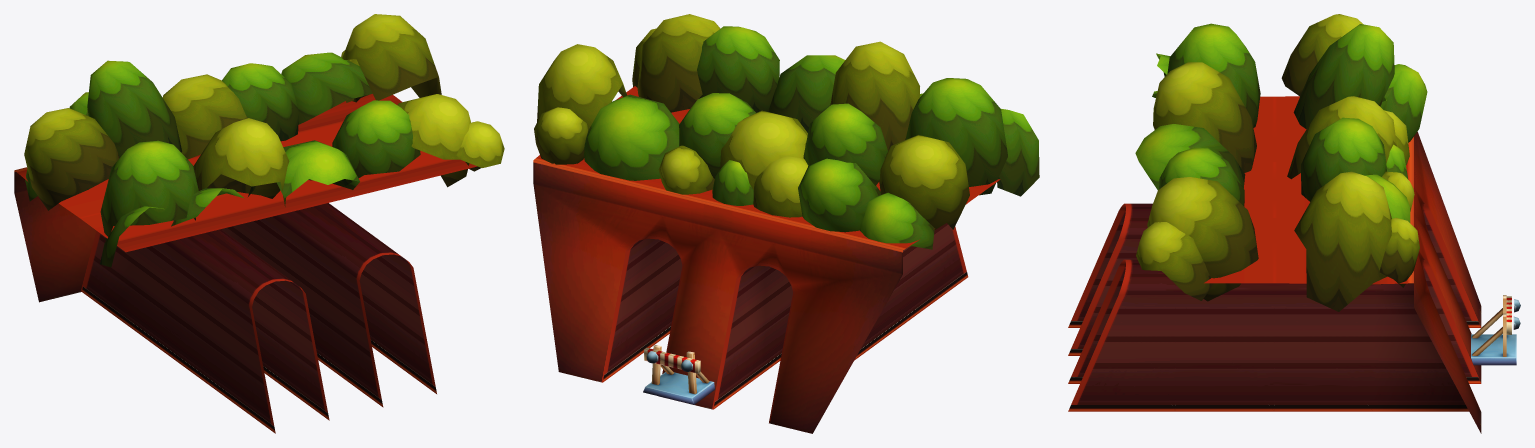
File: tunnel_4.fbx
3 views of the same model, side by side, from view 1: azimuth 30°, elevation 25°; view 2: azimuth 150°, elevation 25°; view 3: azimuth 270°, elevation 25° (orthographic). The views are drawn at different scales.
Parts seen in each view (by area): view 1: tunnel_4_obj; view 2: tunnel_4_obj; view 3: tunnel_4_obj.
Boxes of the visible parts, x1,y1,x2,y2 form: tunnel_4_obj: [14, 14, 504, 433]; tunnel_4_obj: [533, 14, 1039, 433]; tunnel_4_obj: [1068, 14, 1520, 433].
Size of the model in its own units: 15200 by 9690 by 13696.
1 material, 1 textured.
